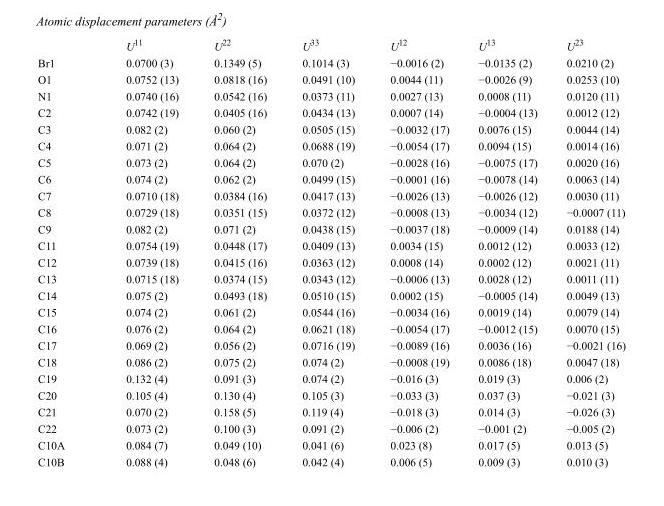table: (37, 36, 624, 467)
table column: (94, 36, 195, 467), (371, 36, 463, 467), (195, 36, 283, 467), (283, 36, 371, 467), (463, 36, 551, 467), (551, 36, 624, 467), (37, 36, 94, 467)
table column header: (37, 36, 624, 54)
table row: (37, 36, 624, 54), (37, 70, 624, 87), (37, 103, 624, 120), (37, 120, 624, 137), (37, 153, 624, 170), (37, 170, 624, 187), (37, 203, 624, 220), (37, 236, 624, 253), (37, 253, 624, 270), (37, 286, 624, 303), (37, 303, 624, 320), (37, 336, 624, 353), (37, 369, 624, 386), (37, 386, 624, 403), (37, 419, 624, 436), (37, 436, 624, 453), (37, 54, 624, 70), (37, 87, 624, 103), (37, 137, 624, 153), (37, 187, 624, 203), (37, 220, 624, 236), (37, 270, 624, 286), (37, 320, 624, 336), (37, 353, 624, 369), (37, 403, 624, 419), (37, 453, 624, 467)
